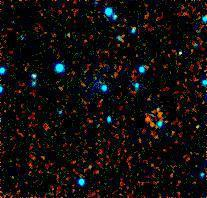star: (140, 108, 170, 138)
